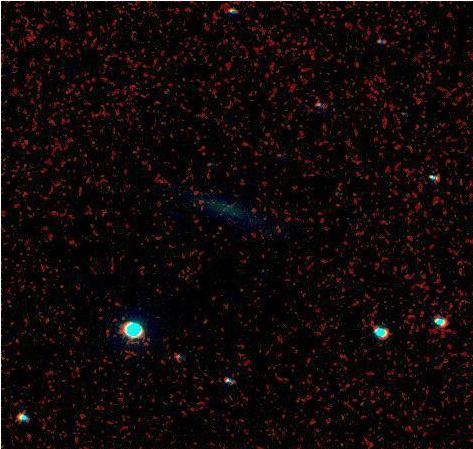star: (203, 214, 233, 244)
